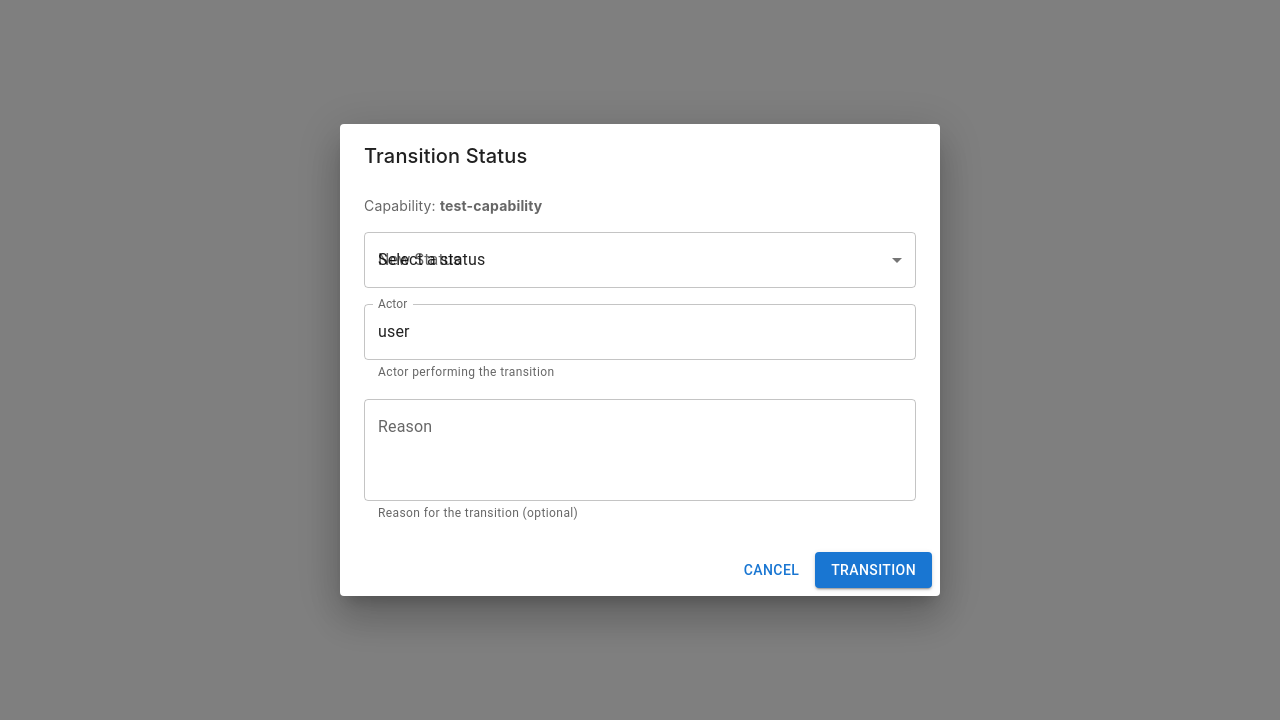
Scenario: TransitionDialog › handles API error gracefully
Note: Select status
Select "validated" in the dropdown labelled "New Status": (640, 260) [364,232,916,288]
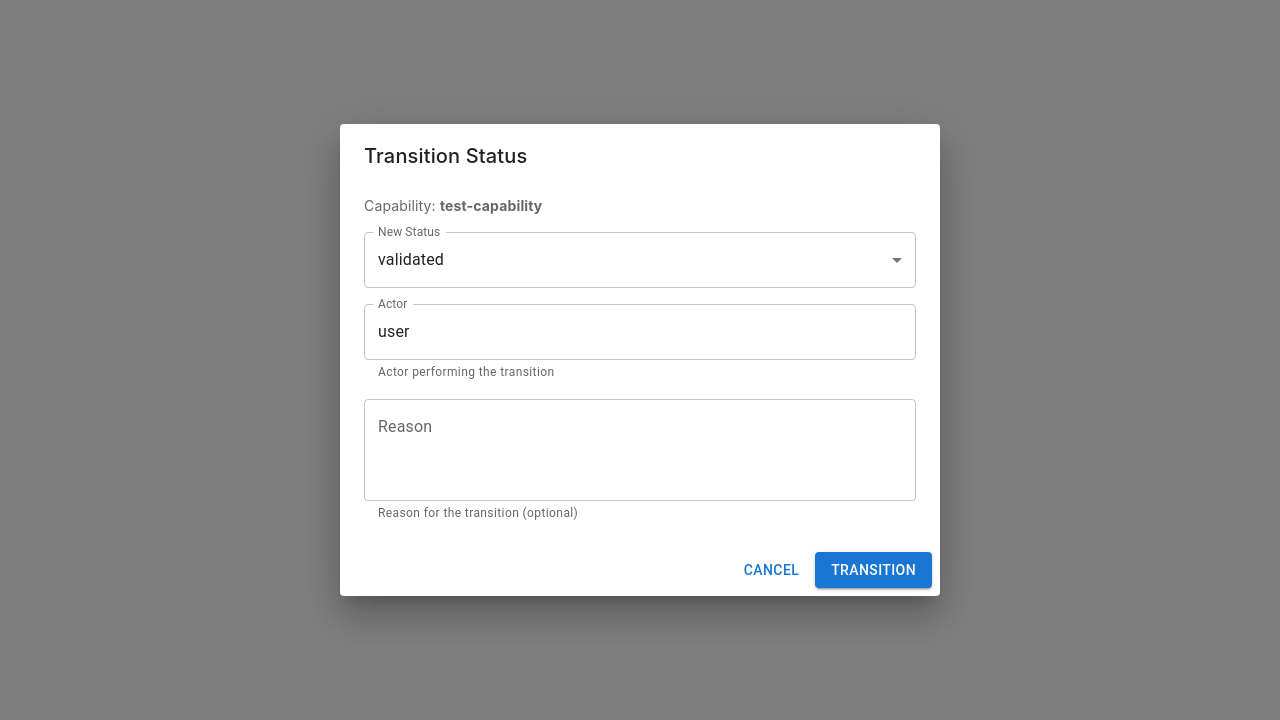
Click the button with test id "transition-submit-button": (874, 570) [815,552,932,588]
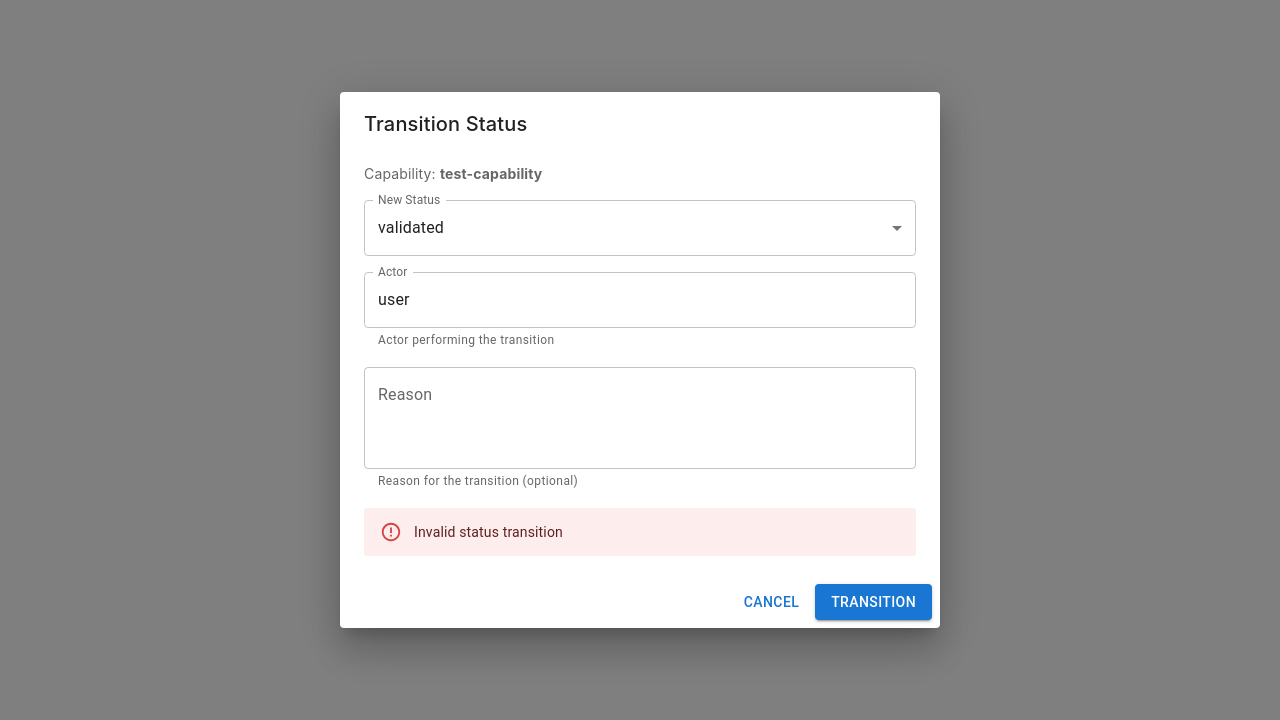
Now the text "Invalid status transition" is shown, box [414,524,563,540]
